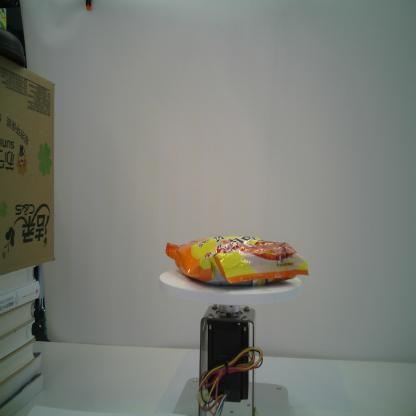Instant Noodles: (161, 234, 311, 289)
